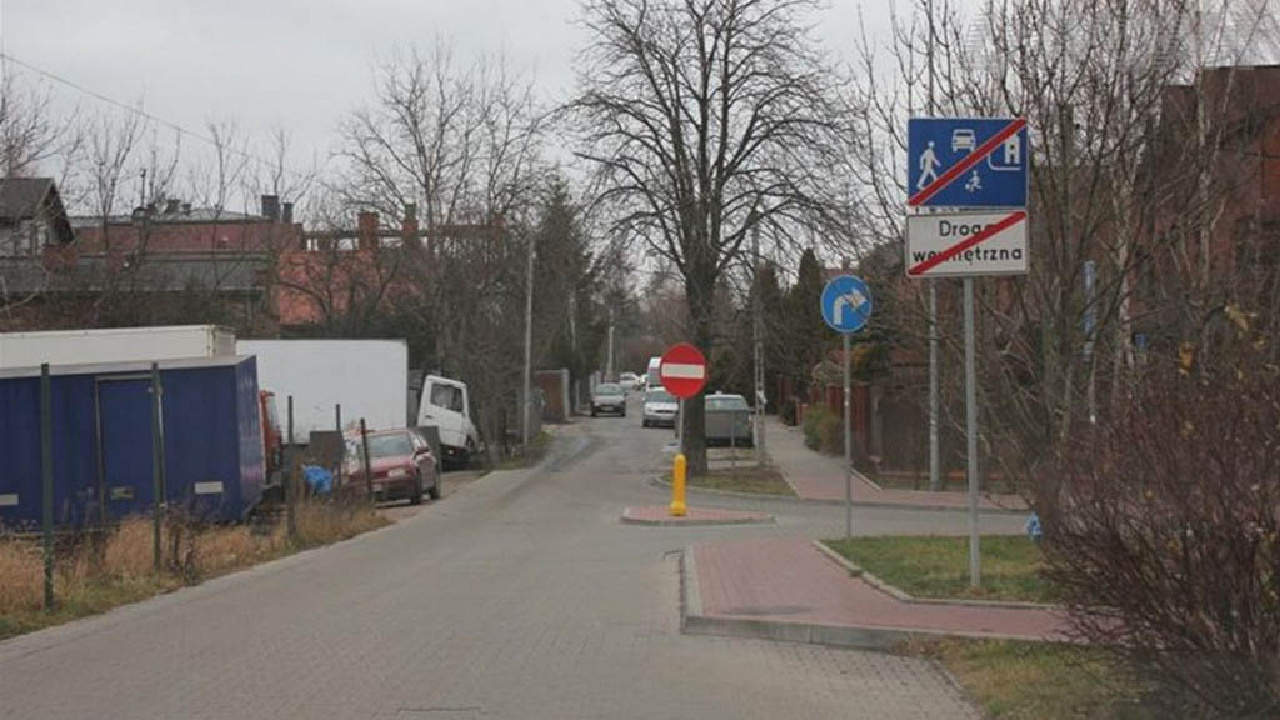B2: (659, 343, 708, 400)
C2: (821, 275, 872, 332)
D41: (907, 117, 1030, 208)
